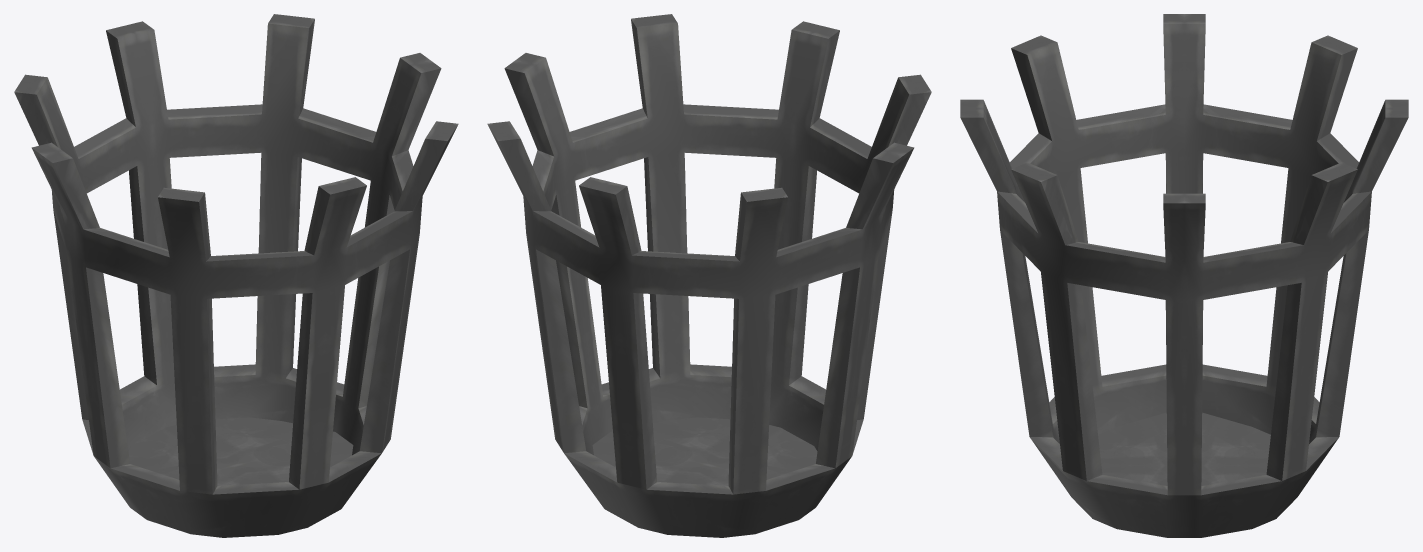
Rendered from Props_korf.fbx.
3 views of the same model, side by side, from view 1: azimuth 30°, elevation 25°; view 2: azimuth 150°, elevation 25°; view 3: azimuth 270°, elevation 25° (orthographic).
Parts seen in each view (by area): view 1: Props_Korf_001; view 2: Props_Korf_001; view 3: Props_Korf_001.
Part boxes in pixels (x1,y1,x2,y2): Props_Korf_001: [14, 14, 458, 537]; Props_Korf_001: [487, 14, 931, 537]; Props_Korf_001: [960, 14, 1408, 537].
Size of the model in its own units: 5.14 by 4.83 by 5.14.
